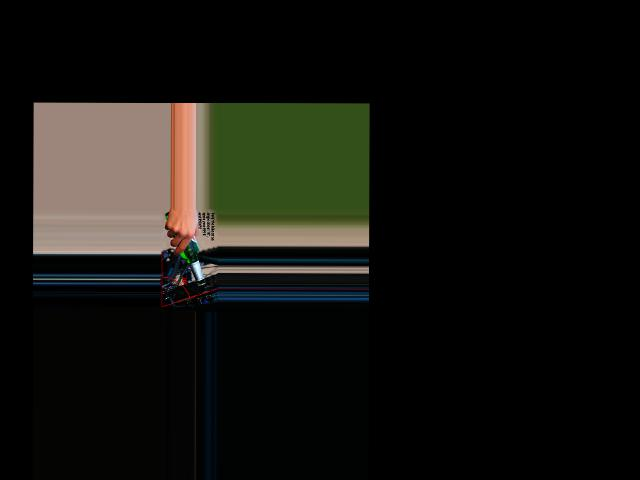beer: (164, 212, 205, 287)
